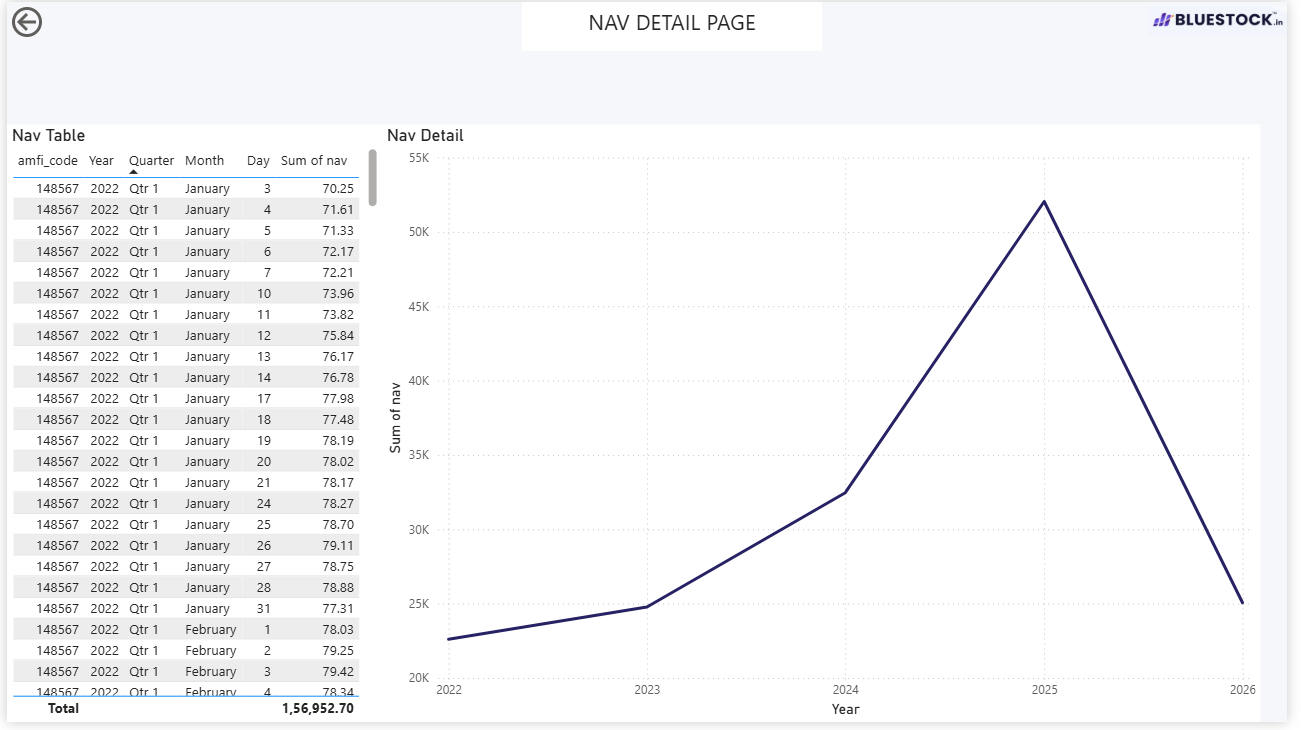

What the dashboard file says about the page in this screenshot:
{"tool":"powerbi","page":{"name":"Fund>NAV Detail","canvas":[1280,720],"ordinal":4},"visuals":[{"type":"lineChart","title":"Nav Detail","fields":{"Category":["clean_nav.date.Variation.Date Hierarchy.Year","clean_nav.date.Variation.Date Hierarchy.Quarter","clean_nav.date.Variation.Date Hierarchy.Month","clean_nav.date.Variation.Date Hierarchy.Day"],"Y":["Sum(clean_nav.nav)"]},"box":[375,122.5,878.8,597.5],"z":0},{"type":"actionButton","box":[0,0,100,40],"z":1000},{"type":"tableEx","title":"Nav Table","fields":{"Values":["clean_nav.amfi_code","clean_nav.date.Variation.Date Hierarchy.Year","clean_nav.date.Variation.Date Hierarchy.Quarter","clean_nav.date.Variation.Date Hierarchy.Month","clean_nav.date.Variation.Date Hierarchy.Day","Sum(clean_nav.nav)"]},"box":[0,122.5,375,597.5],"z":2000},{"type":"textbox","box":[515,0,300,48.8],"z":3000},{"type":"image","box":[1141.1,0,138.9,38.9],"z":4000}]}

Visuals, with their boxes in screenshot pixels (x1, y1, x2, y2), scaled from the page's 1280x720 canvas onto the 1301x730 screenshot:
"Nav Detail" lineChart: pyautogui.locateOnScreen(381, 124, 1274, 729)
actionButton: pyautogui.locateOnScreen(0, 0, 102, 41)
"Nav Table" tableEx: pyautogui.locateOnScreen(0, 124, 381, 729)
textbox: pyautogui.locateOnScreen(523, 0, 828, 49)
image: pyautogui.locateOnScreen(1160, 0, 1300, 39)
